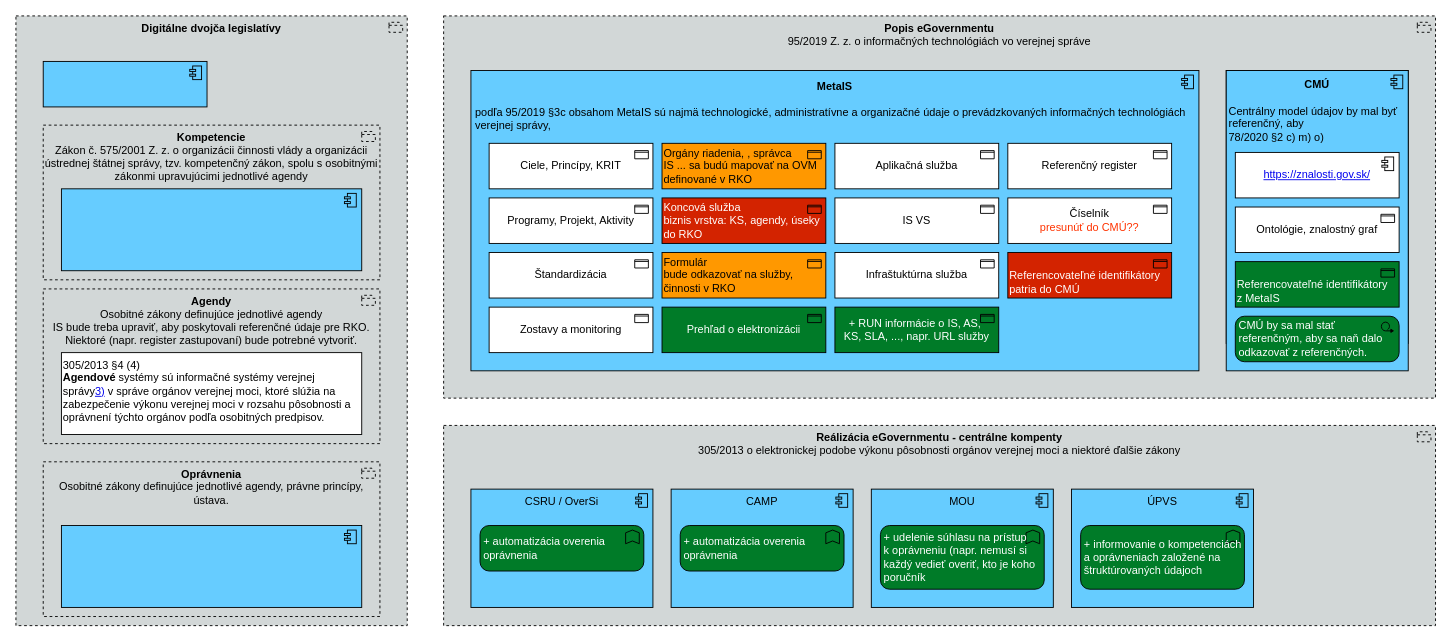
Some shapes in this 1451 by 642 pixel diagram are drawn without their labels. The shapes that lost their labels are listed below. From the top down, each one's centre as x and y in pixels, then its label:
the point at 124,84: Slov-Lex
the point at 211,229: Register kompetencií
the point at 211,566: Register oprávnení
